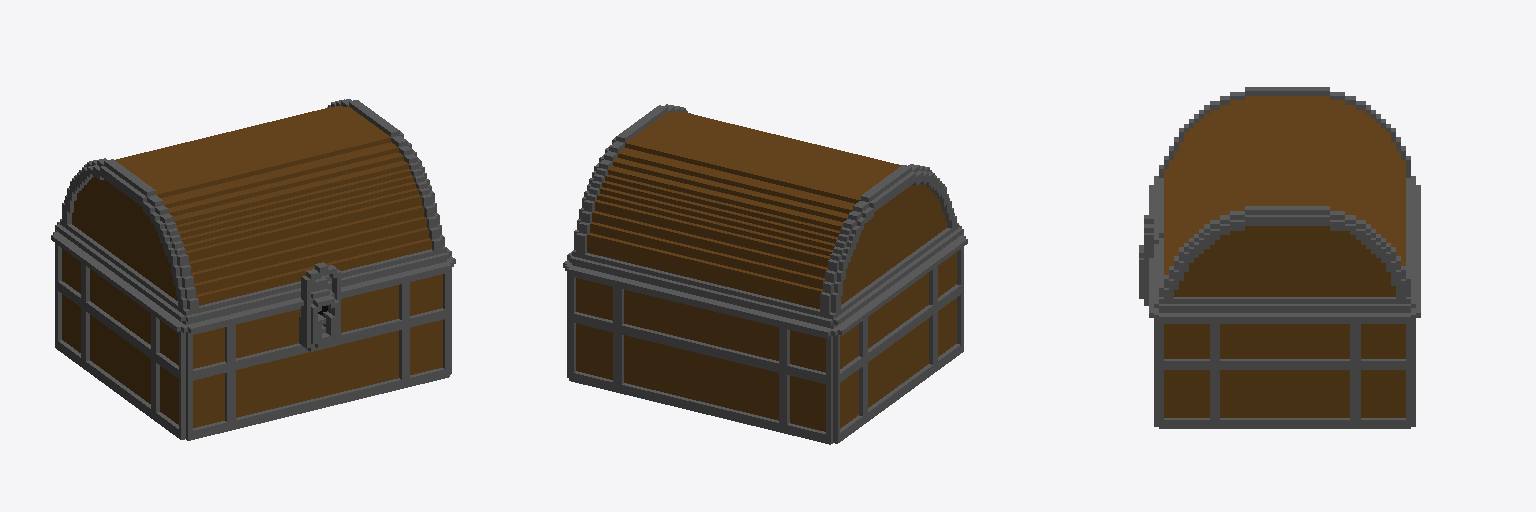
3 renders of one model, left to right at view 1: azimuth 30°, elevation 25°; view 2: azimuth 150°, elevation 25°; view 3: azimuth 270°, elevation 25°, orthographic.
Visible parts, largest first — view 1: ChestBase; view 2: ChestBase; view 3: ChestBase.
Part boxes in pixels (x1,y1,x2,y2): ChestBase: (51,99,455,440); ChestBase: (563,104,967,444); ChestBase: (1139,87,1420,428).
Size of the model in its own units: 64 by 47 by 56.
1 materials, 1 textured.